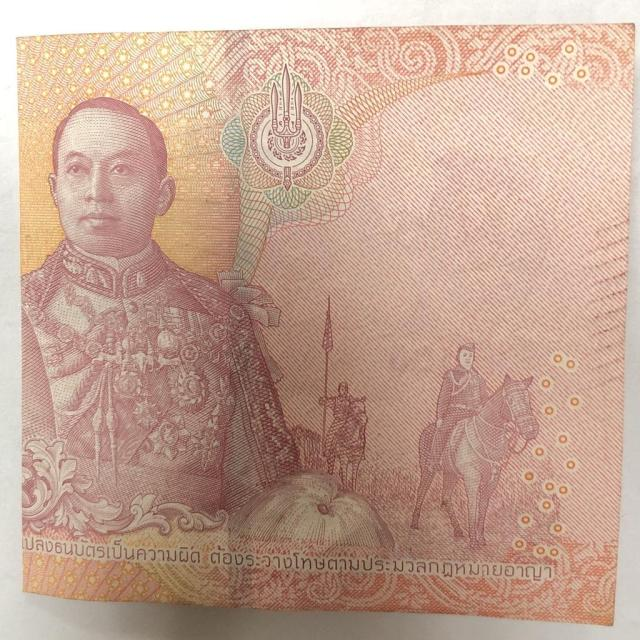THAI100: (18, 24, 635, 624)
